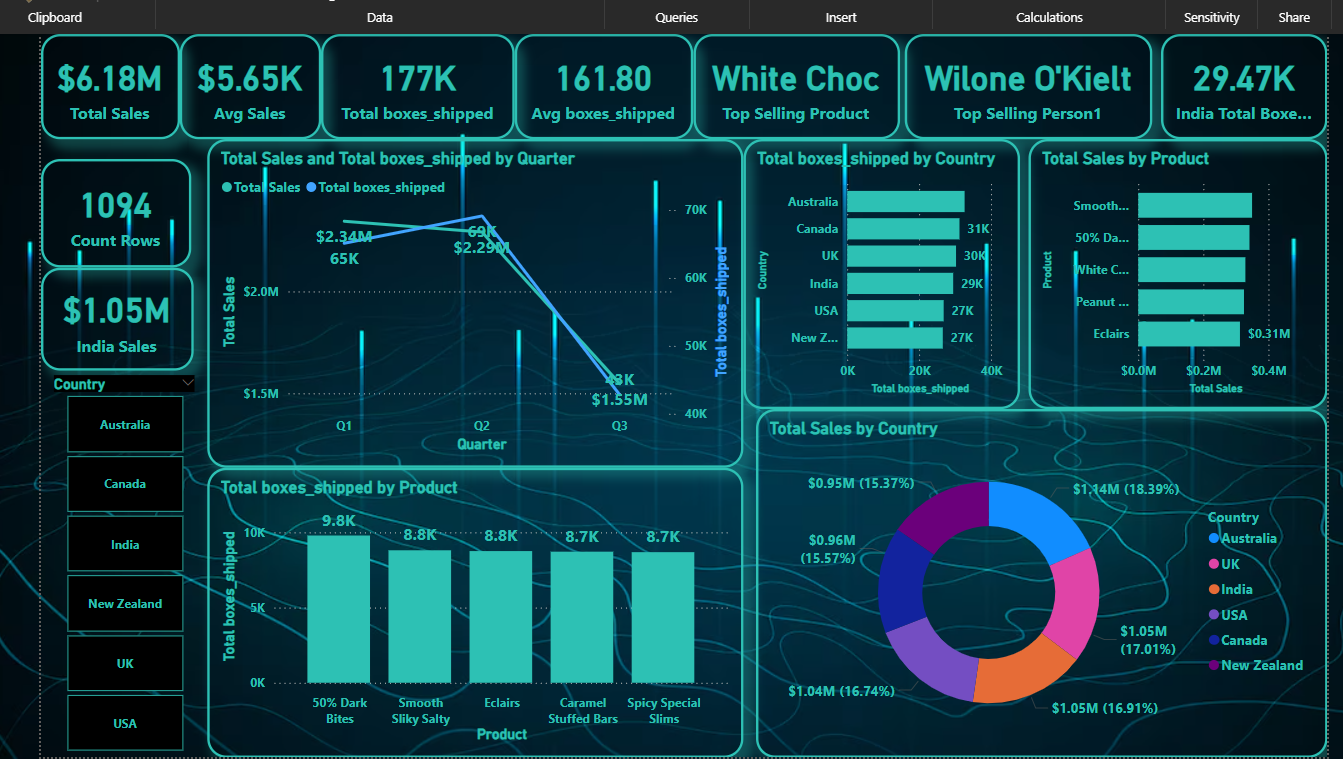

Layout of this report page (visuals, bound fields, positions):
{"tool":"powerbi","page":{"name":"Chocolate Sales DashBoard","canvas":[1280,720],"ordinal":1},"visuals":[{"type":"card","fields":{"Values":["Measure.Total Sales"]},"box":[0,0,138.1,104.5],"z":0},{"type":"card","fields":{"Values":["Measure.Avg Sales"]},"box":[138.1,0,140.6,104.5],"z":1},{"type":"card","fields":{"Values":["Measure.Total boxes_shipped"]},"box":[278.6,0,192.8,104.5],"z":2},{"type":"card","fields":{"Values":["Measure.Avg boxes_shipped"]},"box":[471.5,0,177.9,104.5],"z":3},{"type":"card","fields":{"Values":["Measure.Count Rows"]},"box":[0,124.4,149.3,108.2],"z":4},{"type":"card","fields":{"Values":["Measure.India Sales"]},"box":[0,232.6,151.8,102],"z":5},{"type":"card","fields":{"Values":["Measure.India Total Boxes_shipped"]},"box":[1114.6,0,165.4,104.5],"z":6},{"type":"slicer","fields":{"Values":["Chocolate Dataset.Country"]},"box":[0,334.6,165.4,385.6],"z":7},{"type":"card","fields":{"Values":["Measure.Top Selling Product"]},"box":[649.3,0,205.3,104.5],"z":8},{"type":"card","fields":{"Values":["Measure.Top Selling Person1"]},"box":[859.6,0,246.3,104.5],"z":9},{"type":"lineChart","fields":{"Category":["Date Table.Year","Date Table.Quarter","Date Table.Month","Date Table.Day"],"Y":["Measure.Total Sales"],"Y2":["Measure.Total boxes_shipped"]},"box":[165.4,104.5,533.7,327.2],"z":10},{"type":"clusteredColumnChart","fields":{"Category":["Chocolate Dataset.Product"],"Y":["Measure.Total boxes_shipped"]},"box":[165.4,431.7,533.7,288.6],"z":11},{"type":"clusteredBarChart","fields":{"Category":["Chocolate Dataset.Country"],"Y":["Measure.Total boxes_shipped"]},"box":[699.1,104.5,274.9,268.7],"z":12},{"type":"clusteredBarChart","fields":{"Category":["Chocolate Dataset.Product"],"Y":["Measure.Total Sales"]},"box":[982.7,104.5,297.3,268.7],"z":13},{"type":"donutChart","fields":{"Category":["Chocolate Dataset.Country"],"Y":["Measure.Total Sales"]},"box":[711.5,373.2,568.5,347.1],"z":14}]}

Visuals, with their boxes in screenshot pixels (x1, y1, x2, y2):
card - Measure.Total Sales: crop(42, 31, 180, 136)
card - Measure.Avg Sales: crop(180, 31, 320, 136)
card - Measure.Total boxes_shipped: crop(320, 31, 512, 136)
card - Measure.Avg boxes_shipped: crop(513, 31, 690, 136)
card - Measure.Count Rows: crop(42, 156, 191, 264)
card - Measure.India Sales: crop(42, 264, 193, 365)
card - Measure.India Total Boxes_shipped: crop(1154, 31, 1319, 136)
slicer - Chocolate Dataset.Country: crop(42, 365, 207, 750)
card - Measure.Top Selling Product: crop(690, 31, 895, 136)
card - Measure.Top Selling Person1: crop(900, 31, 1146, 136)
lineChart - Date Table.Year x Date Table.Quarter: crop(207, 136, 740, 462)
clusteredColumnChart - Chocolate Dataset.Product x Measure.Total boxes_shipped: crop(207, 462, 740, 750)
clusteredBarChart - Chocolate Dataset.Country x Measure.Total boxes_shipped: crop(740, 136, 1014, 404)
clusteredBarChart - Chocolate Dataset.Product x Measure.Total Sales: crop(1023, 136, 1319, 404)
donutChart - Chocolate Dataset.Country x Measure.Total Sales: crop(752, 404, 1319, 750)
